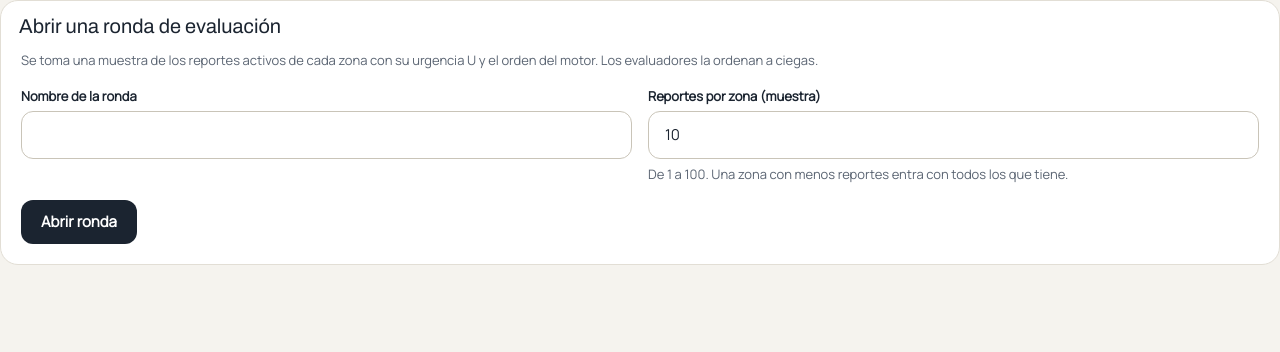
Scenario: abrir una ronda › otra ronda abierta muestra el mensaje del servidor
This screenshot has width=1280, height=352.
Type "Piloto 3" into the field labelled "Nombre de la ronda" at (326, 134), box [21, 110, 632, 158]
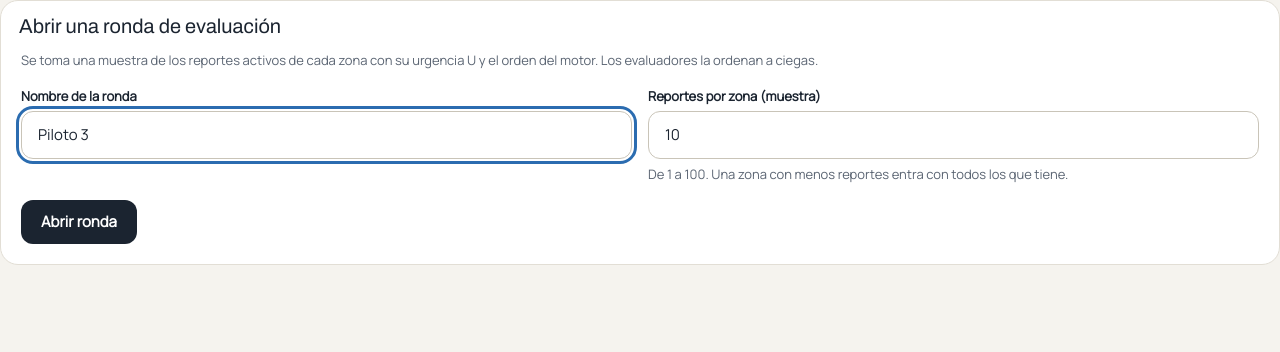
Replace the text in the field labelled "Reportes por zona (muestra)" with "8" at (954, 134), box [648, 110, 1259, 158]
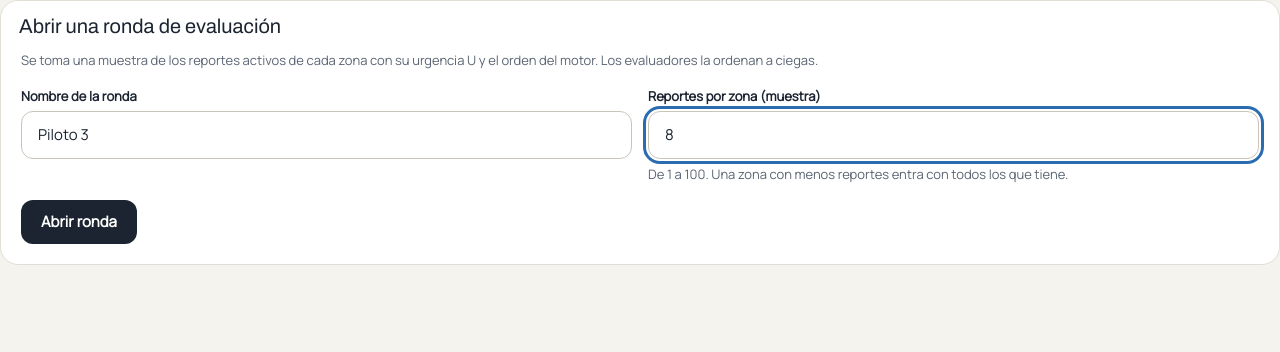
Click the button "Abrir ronda" at (79, 222), box [21, 200, 137, 244]
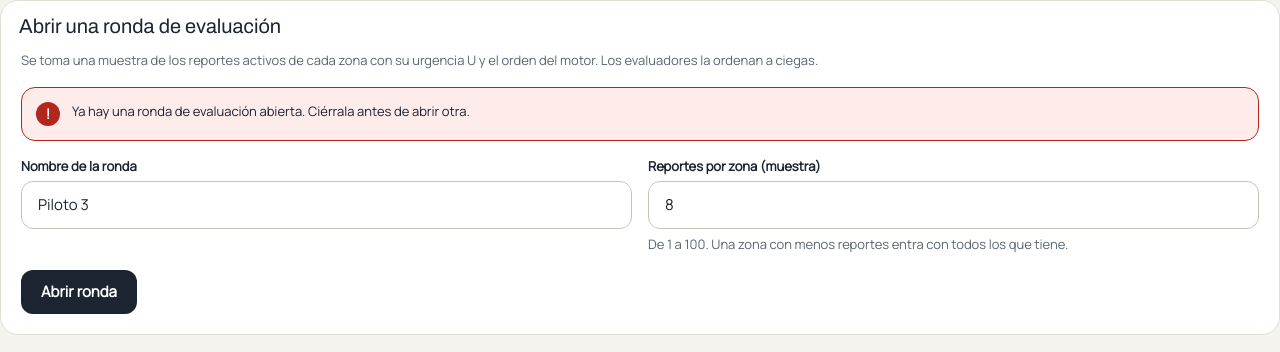
Now the message shows "Ya hay una ronda de evaluación abierta.", box [72, 102, 470, 120]
